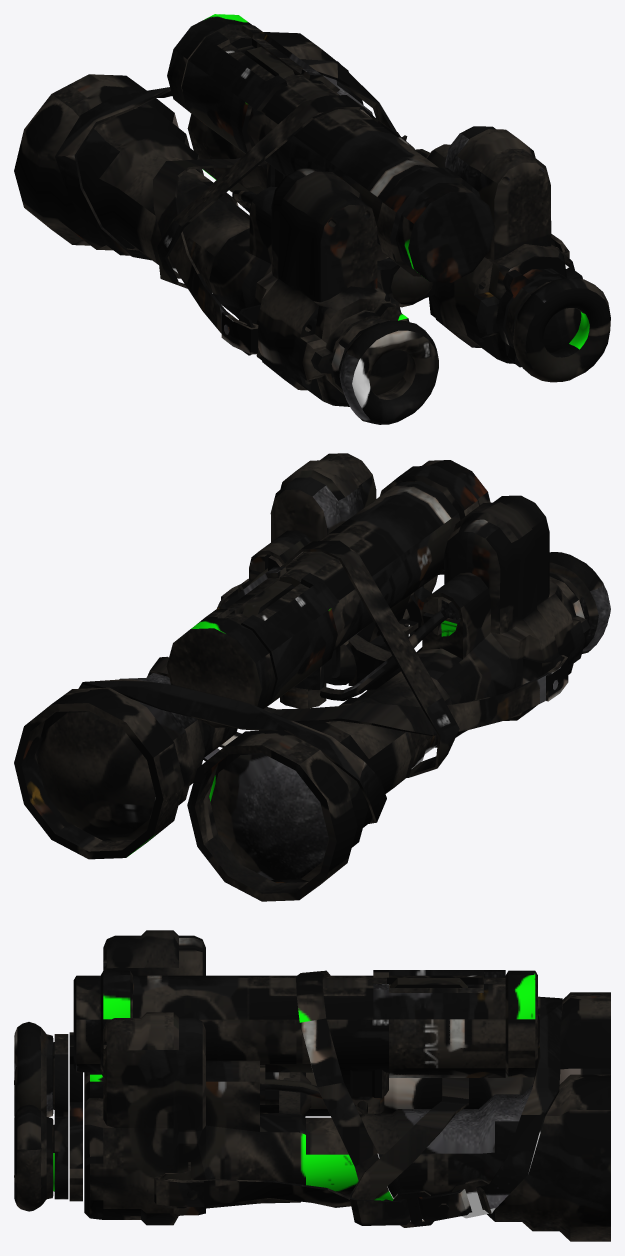
File: orbital_strike.obj
3 renders of one model, top to bottom at view 1: azimuth 30°, elevation 25°; view 2: azimuth 150°, elevation 25°; view 3: azimuth 270°, elevation 25°, orthographic. The views are drawn at different scales.
Visible parts, largest first — view 1: part_3, part_0, part_1, part_4; view 2: part_3, part_4, part_0, part_1; view 3: part_3, part_0, part_1.
Boxes of the visible parts, x1,y1,x2,y2 form: part_3: (14, 14, 582, 406); part_0: (55, 59, 569, 389); part_1: (339, 278, 610, 424); part_4: (369, 308, 581, 395); part_3: (14, 453, 590, 901); part_4: (36, 710, 329, 883); part_0: (78, 540, 584, 823); part_1: (422, 552, 610, 653); part_3: (69, 930, 610, 1241); part_0: (54, 970, 562, 1227); part_1: (14, 1022, 54, 1211).
Size of the model in its own units: 0.5483 by 0.3562 by 0.8843.
